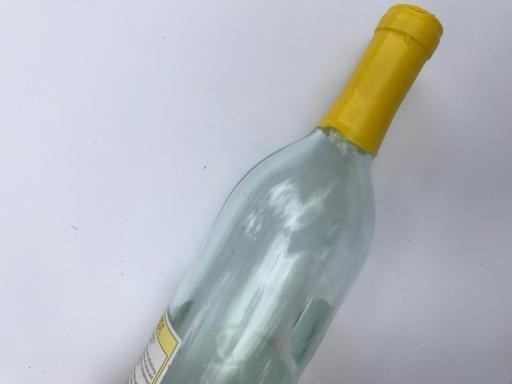botolkaca: (126, 4, 443, 384)
